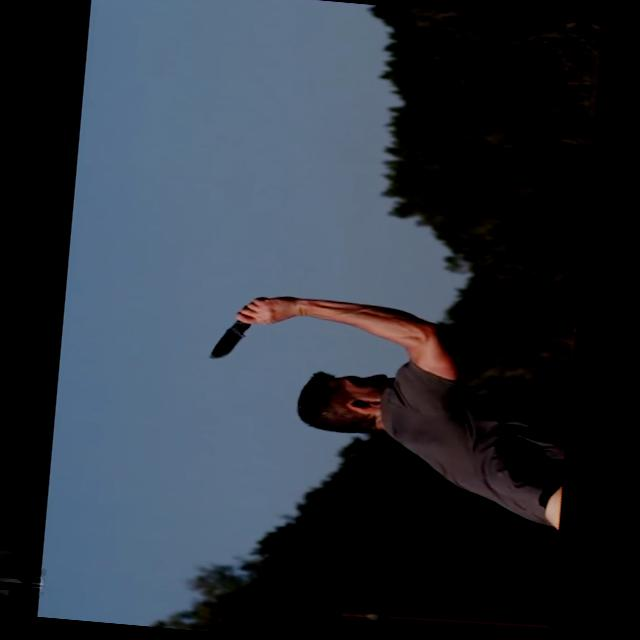knife: (198, 288, 276, 366)
